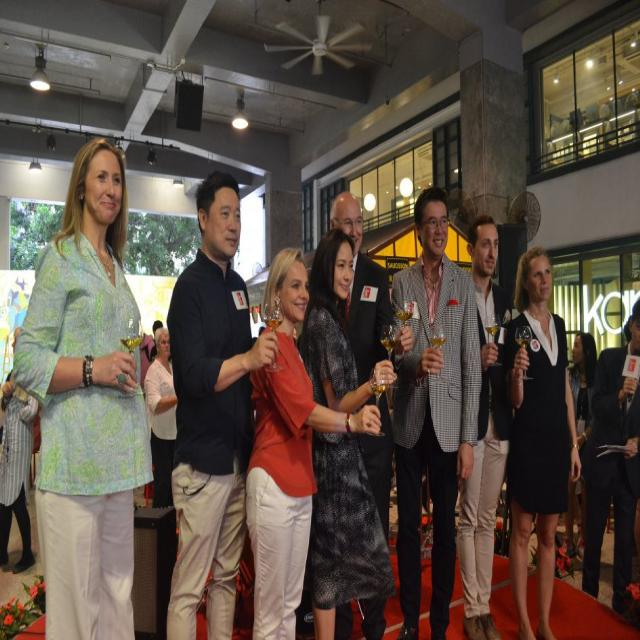body: (10, 131, 157, 639), (164, 168, 286, 639), (244, 246, 383, 640), (386, 180, 485, 639), (296, 223, 400, 639), (328, 189, 416, 637), (500, 245, 584, 640), (454, 212, 516, 640), (579, 296, 639, 614), (0, 326, 37, 574), (565, 330, 599, 560), (143, 325, 179, 511), (136, 319, 170, 382)
